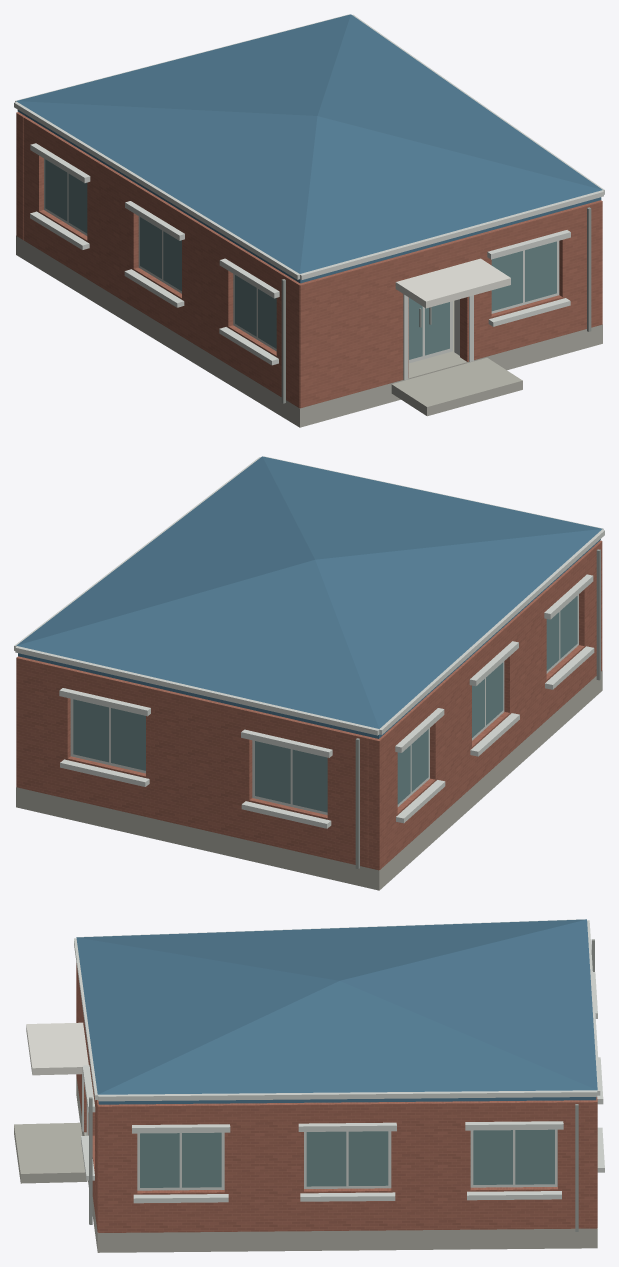
3 renders of one model, top to bottom at view 1: azimuth 30°, elevation 25°; view 2: azimuth 150°, elevation 25°; view 3: azimuth 270°, elevation 25°, orthographic. The views are drawn at different scales.
Visible parts, largest first — view 1: shop__roof, shop__brick, shop__threshold-entry, shop__frame, shop__glass, shop__canopy, shop__metal; view 2: shop__roof, shop__brick, shop__frame, shop__glass, shop__threshold-entry, shop__metal; view 3: shop__roof, shop__brick, shop__frame, shop__threshold-entry, shop__glass, shop__canopy, shop__metal.
Boxes of the visible parts, left/top/right/bottom form: shop__roof: left=16, top=14, right=602, bottom=283; shop__brick: left=16, top=112, right=602, bottom=408; shop__threshold-entry: left=16, top=236, right=602, bottom=427; shop__frame: left=14, top=14, right=604, bottom=380; shop__glass: left=45, top=159, right=556, bottom=359; shop__canopy: left=395, top=258, right=510, bottom=308; shop__metal: left=281, top=207, right=591, bottom=403; shop__roof: left=16, top=456, right=602, bottom=738; shop__brick: left=16, top=540, right=602, bottom=870; shop__frame: left=14, top=456, right=604, bottom=828; shop__glass: left=73, top=596, right=577, bottom=812; shop__threshold-entry: left=16, top=670, right=602, bottom=890; shop__metal: left=355, top=549, right=600, bottom=869; shop__roof: left=76, top=919, right=597, bottom=1104; shop__brick: left=76, top=963, right=597, bottom=1232; shop__frame: left=74, top=919, right=604, bottom=1203; shop__threshold-entry: left=14, top=1076, right=597, bottom=1252; shop__glass: left=140, top=1129, right=554, bottom=1187; shop__canopy: left=26, top=1022, right=88, bottom=1075; shop__metal: left=89, top=939, right=594, bottom=1231.
Size of the model in its own units: 9.82 by 4.75 by 13.55.
8 materials, 1 textured.
